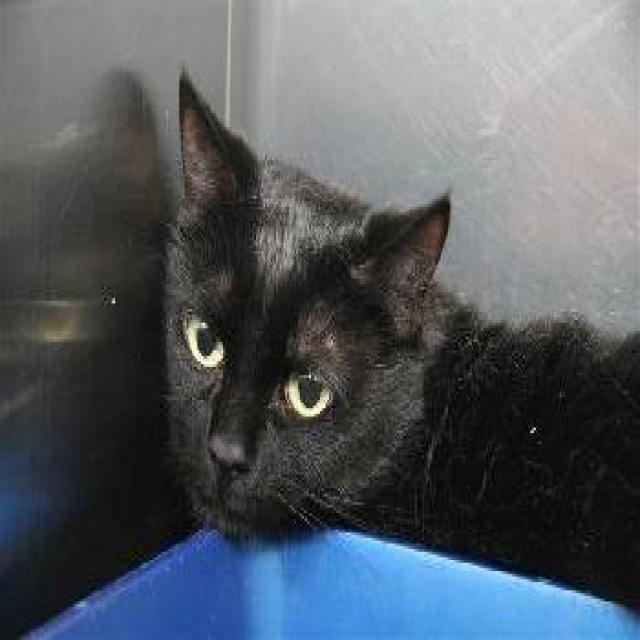cat: (159, 63, 638, 612)
